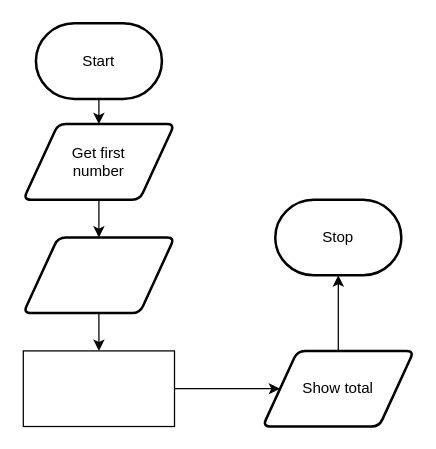
Image size: 436x449. Some labels were removed from this diagram. Each missing label, with the centre of its shape:
Fn=(Fn+Sn) Sn=(Fn+|Sn): the point at 98,388
Get second number: the point at 98,275
